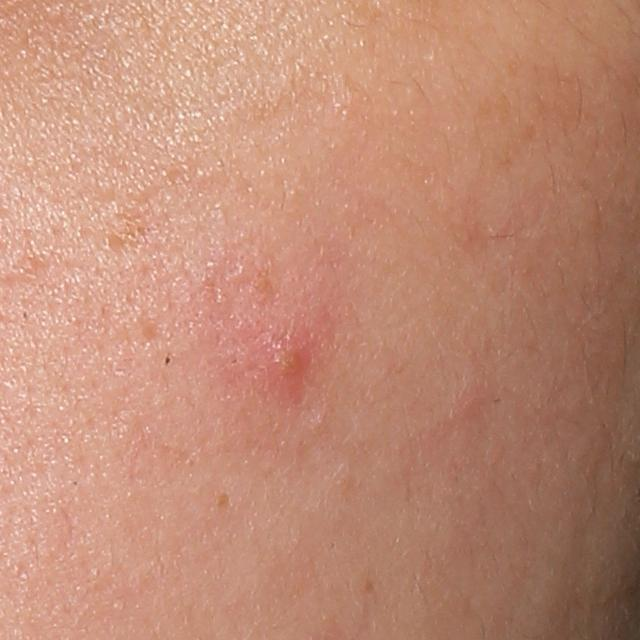atrophic_scar: (140, 322, 169, 350)
papule: (266, 337, 314, 384)
